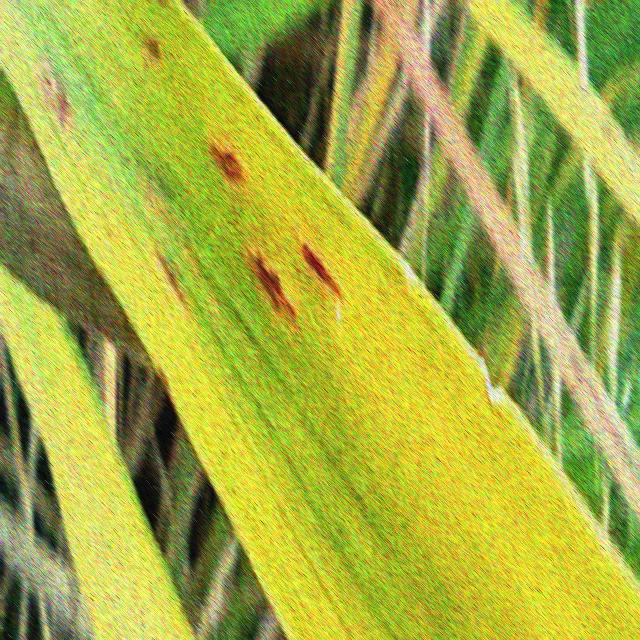NBS: (242, 237, 297, 334), (294, 232, 342, 305), (207, 133, 252, 198), (37, 58, 74, 130), (155, 246, 190, 318), (138, 174, 167, 218), (141, 31, 160, 63), (102, 226, 112, 249), (158, 0, 169, 11)
